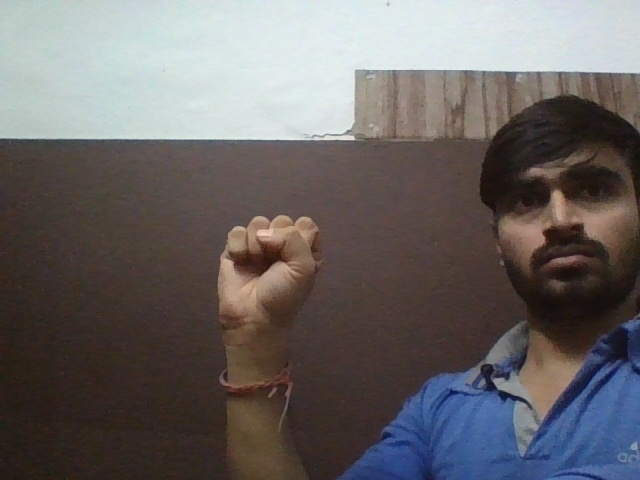S: (208, 213, 331, 338)
